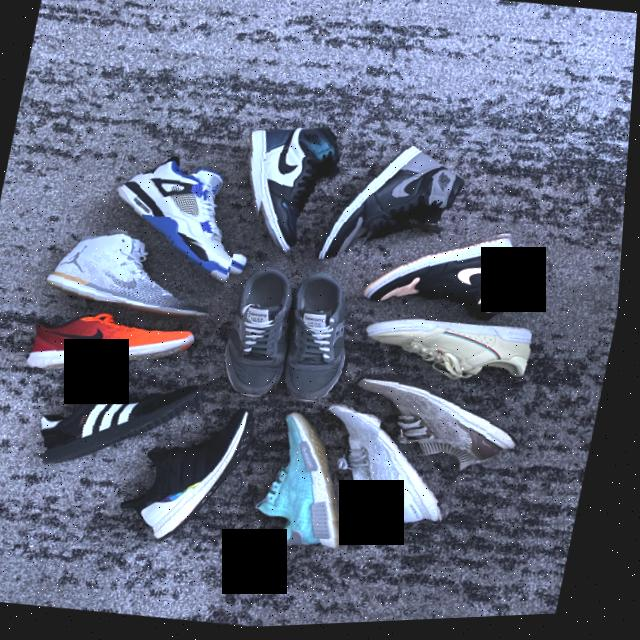shoe: (32, 345, 229, 493), (98, 134, 277, 294), (296, 394, 480, 546), (235, 402, 390, 581), (313, 138, 484, 294), (120, 388, 271, 563), (337, 366, 548, 490), (355, 215, 554, 340), (36, 213, 239, 334), (19, 287, 215, 402), (223, 116, 362, 271), (348, 305, 547, 412), (208, 253, 314, 418), (268, 263, 372, 429)
